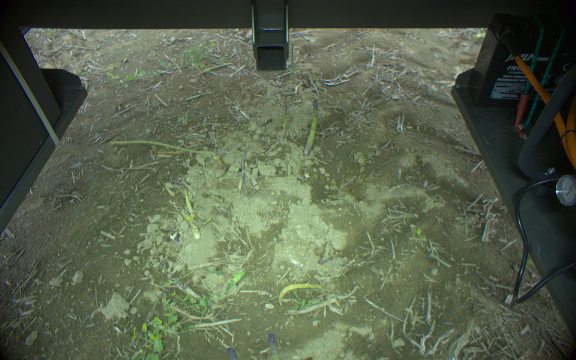aspa: (110, 138, 218, 156), (300, 98, 322, 154), (267, 331, 281, 360), (228, 346, 238, 360)
